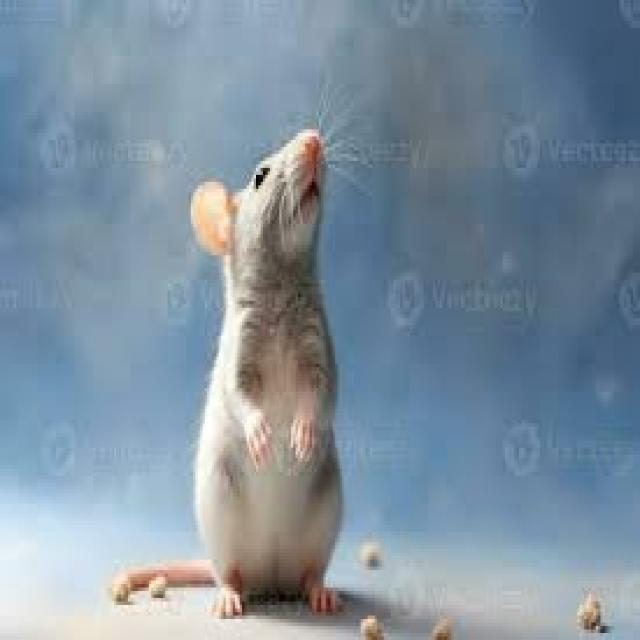Rat: (139, 41, 401, 640)
